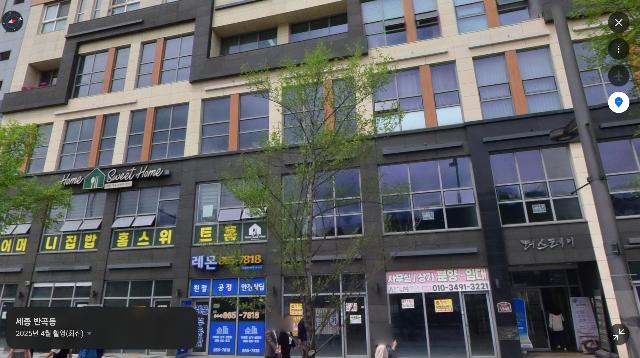other: (207, 37, 413, 358), (0, 117, 78, 307), (564, 0, 640, 31)
